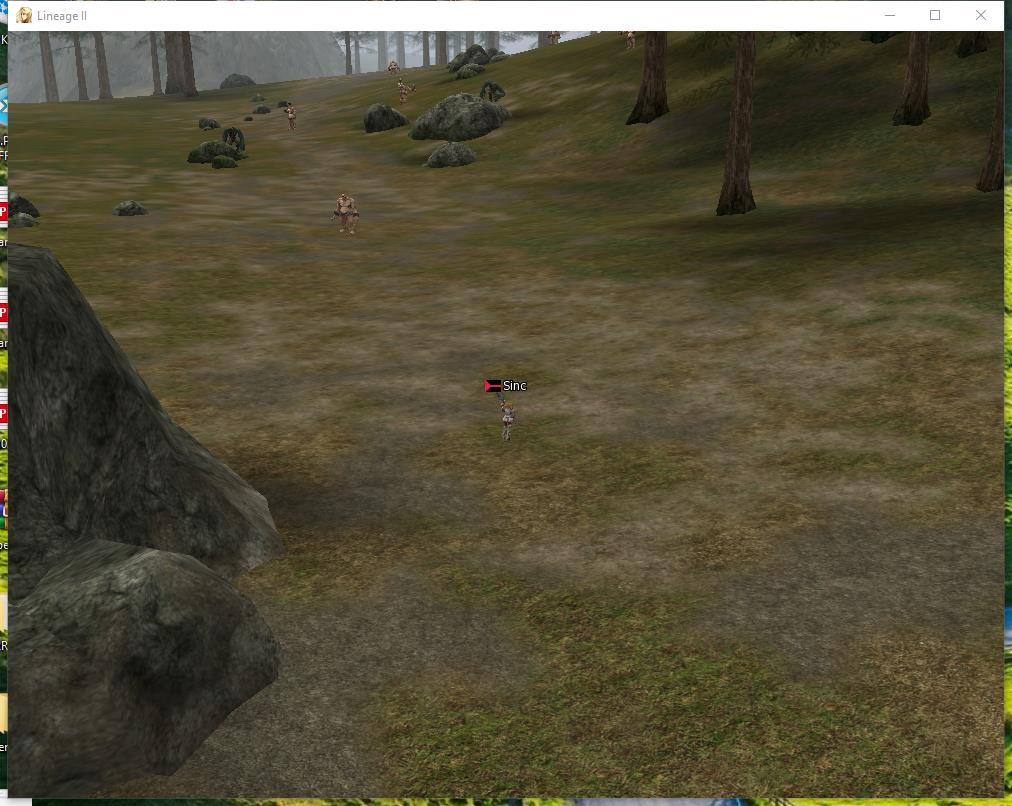monster: (331, 193, 366, 233), (394, 79, 420, 111), (287, 103, 303, 133)
